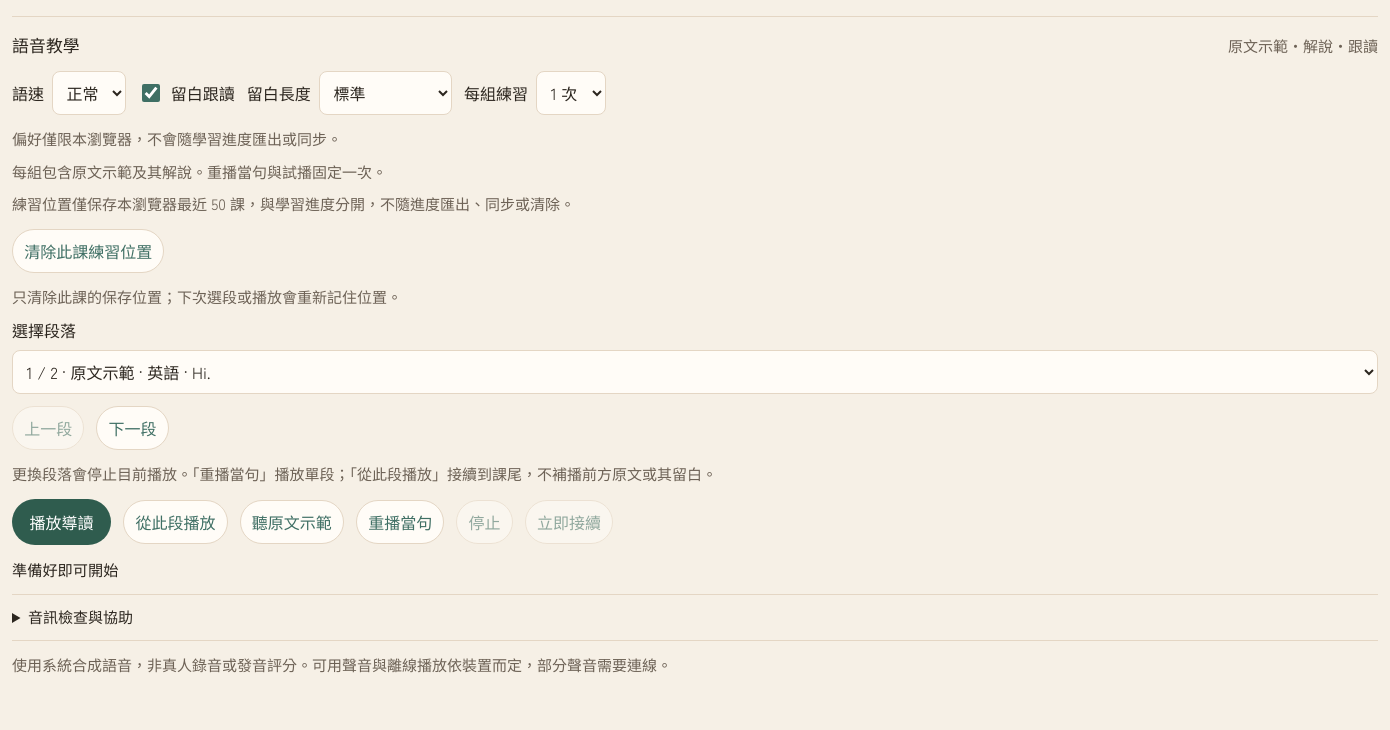
Test: 語音教學的真實元件互動 › 清除失敗保留上次提示，重試成功才收起且不影響播放
The image size is (1390, 730).
Select "2 / 2 · 原文示範 · 英語 · Bye." in the dropdown labelled "選擇段落": (695, 372) [12,350,1378,394]
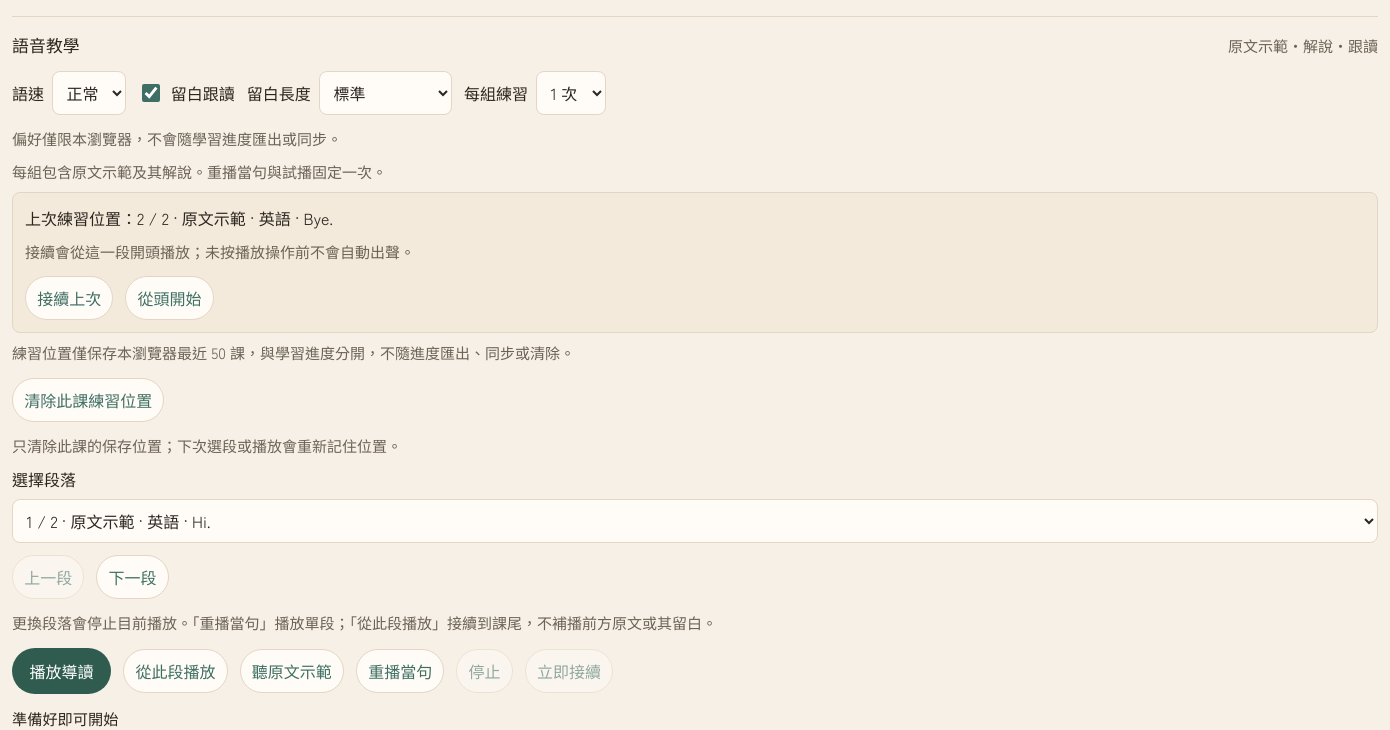
Click the button "清除此課練習位置": (88, 400) [12,378,164,422]
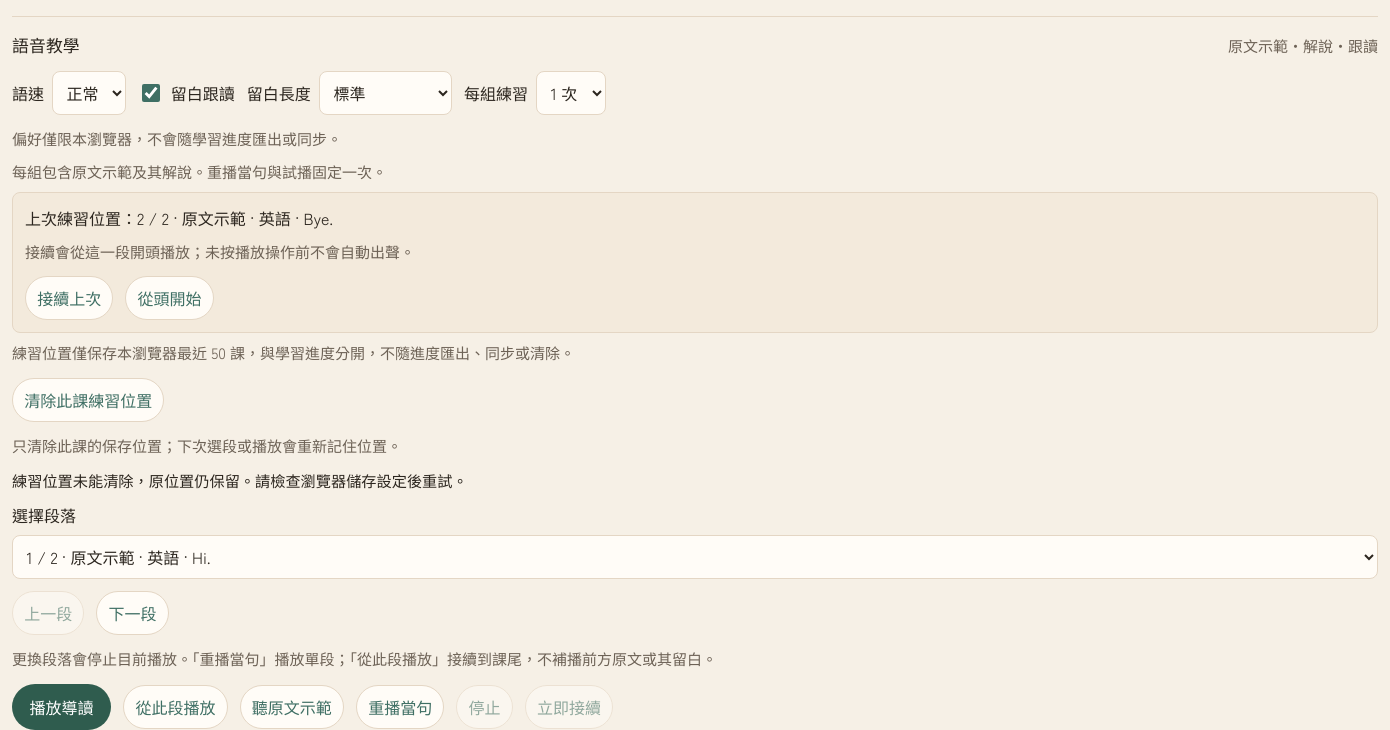
Expected: the element with class "audio-lesson-resume" shows "2 / 2", [137,206,333,230]
Expected: the message "練習位置未能清除，原位置仍保留。請檢查瀏覽器儲存設定後重試。" is shown, [12,470,468,492]
Click the button "清除此課練習位置": (88, 400) [12,378,164,422]
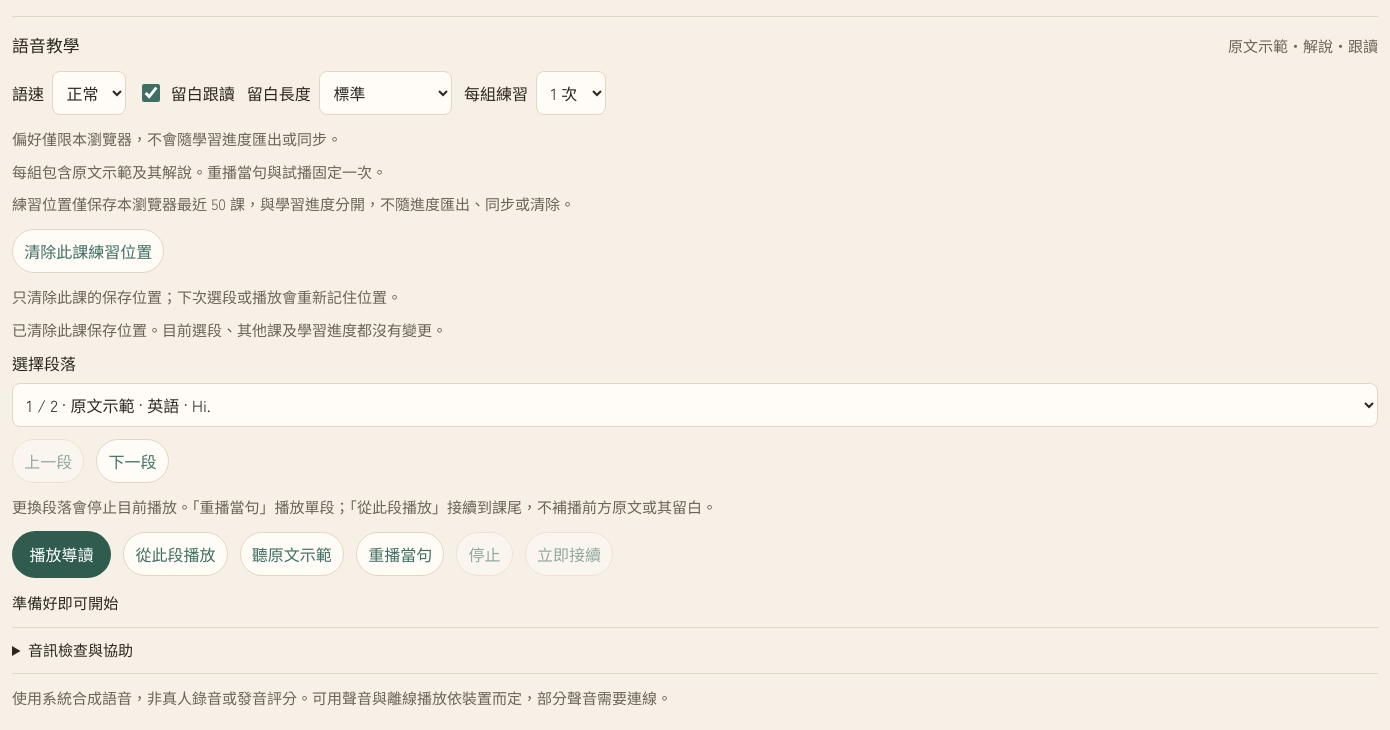
Expected: the element with class "audio-lesson-resume" is gone
Click the button "播放導讀": (62, 554) [12,531,111,578]
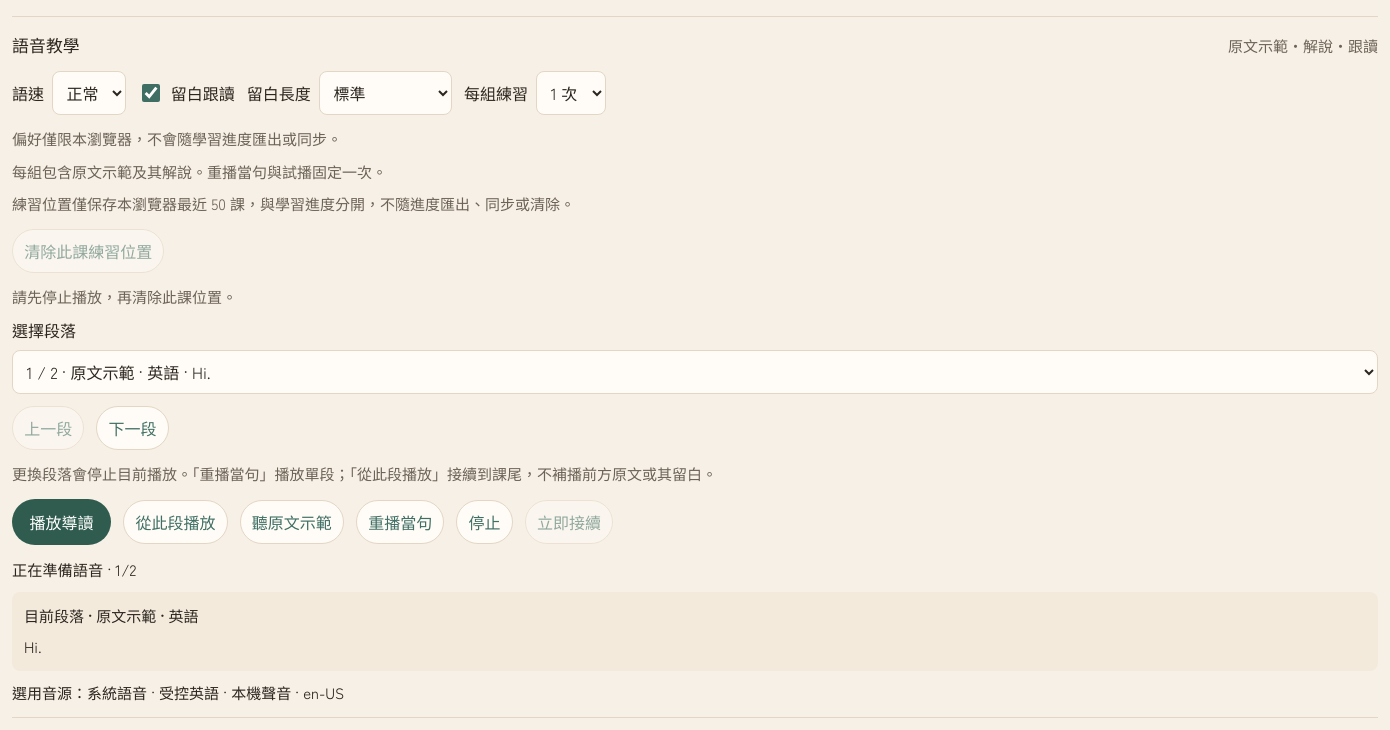
Expected: the text "已清除此課保存位置" is gone
